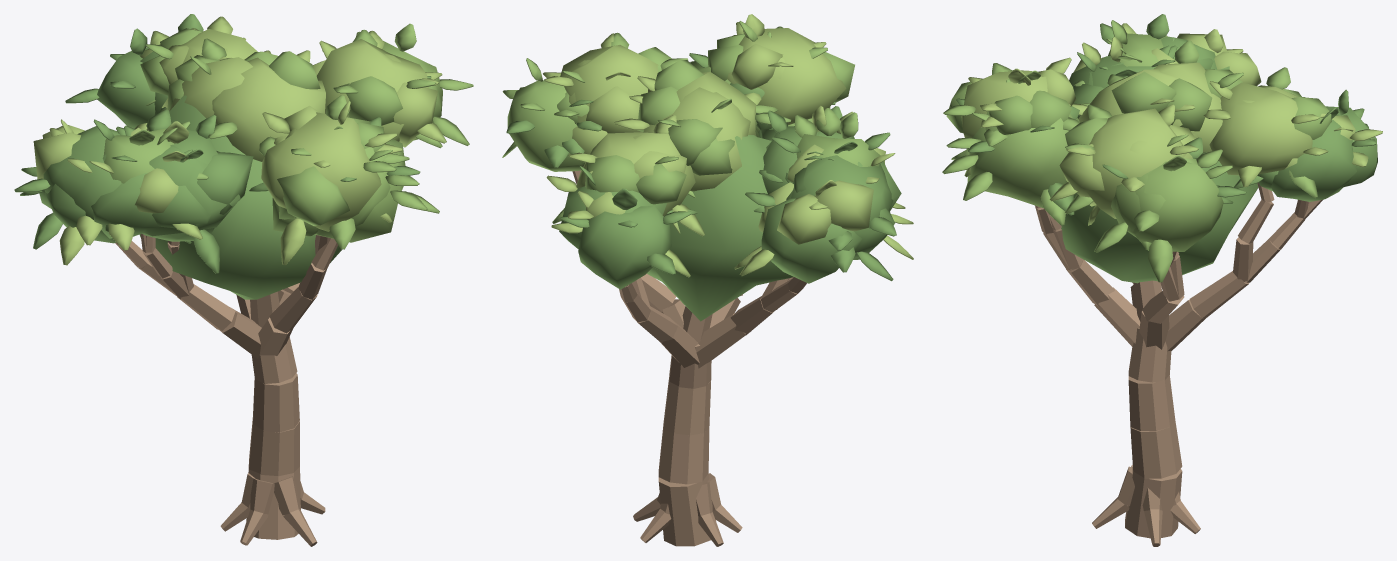
File: Tree_2.gltf
The picture shows the model from 3 angles, left to right: view 1: azimuth 30°, elevation 25°; view 2: azimuth 150°, elevation 25°; view 3: azimuth 270°, elevation 25°; orthographic projection. The views are drawn at different scales.
Parts seen in each view (by area): view 1: Tree_2; view 2: Tree_2; view 3: Tree_2.
Boxes of the visible parts, x1=… form: Tree_2: x1=14, y1=14, x2=473, y2=546; Tree_2: x1=502, y1=14, x2=913, y2=546; Tree_2: x1=942, y1=14, x2=1382, y2=546.
Bounding box in the file's own units: 3.31 × 3.55 × 3.06.
